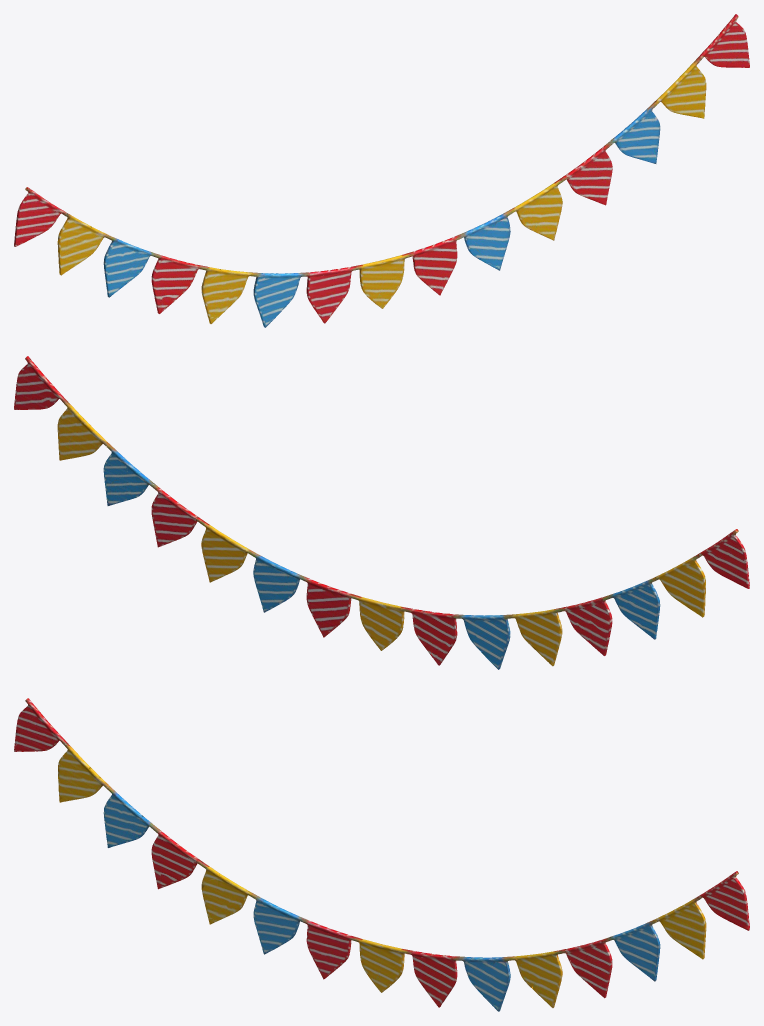
The picture shows the model from 3 angles, top to bottom: view 1: azimuth 30°, elevation 25°; view 2: azimuth 150°, elevation 25°; view 3: azimuth 330°, elevation 25°; orthographic projection.
Visible parts, largest first — view 1: mesh_node; view 2: mesh_node; view 3: mesh_node.
Boxes of the visible parts, bbox=[...] form: mesh_node: bbox=[14, 14, 749, 327]; mesh_node: bbox=[14, 356, 749, 669]; mesh_node: bbox=[14, 698, 749, 1011].
Size of the model in its own units: 1.9 by 0.5147 by 0.0107.
1 material, 1 textured.
